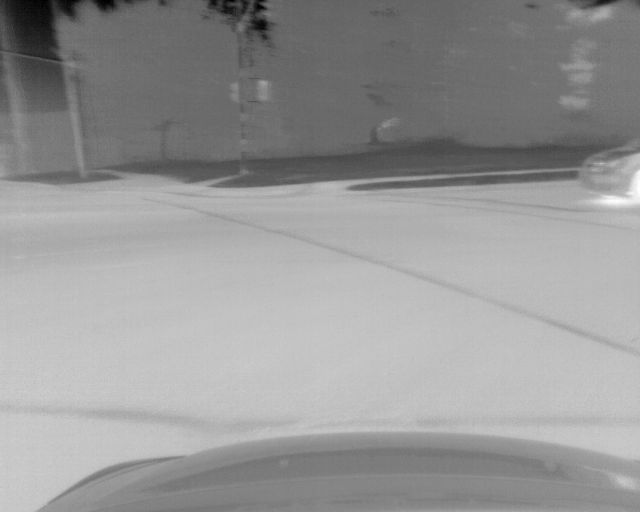car: (580, 135, 640, 201)
